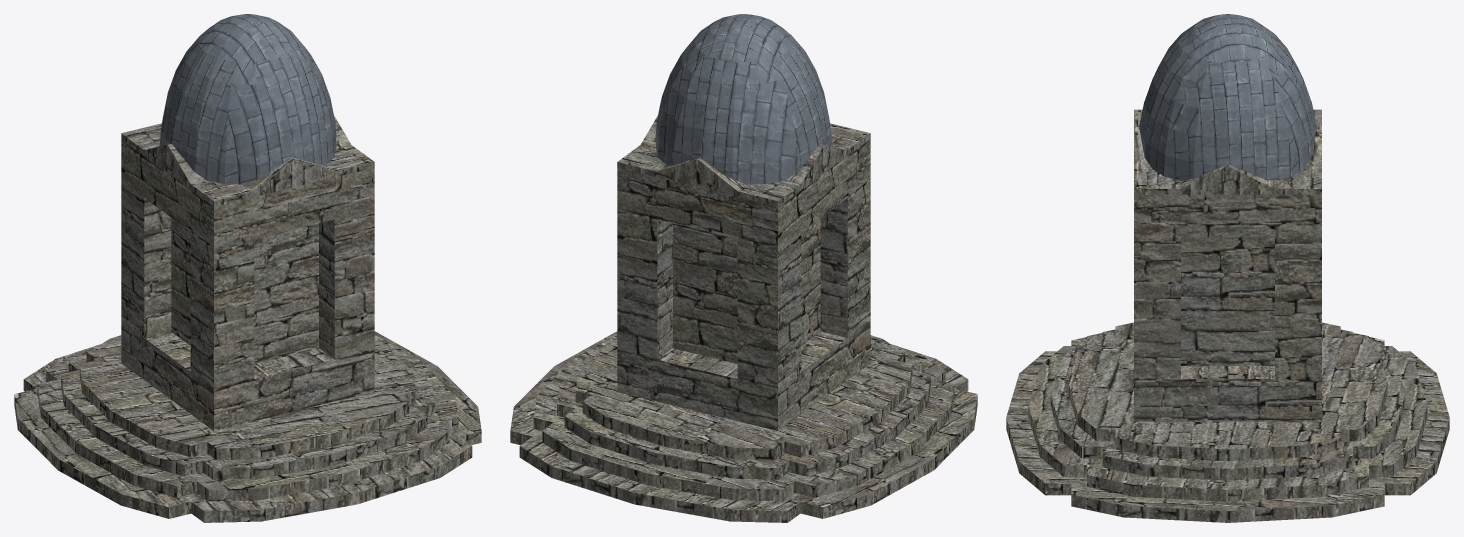
The model's file is fountain.fbx.
3 renders of one model, left to right at view 1: azimuth 30°, elevation 25°; view 2: azimuth 150°, elevation 25°; view 3: azimuth 270°, elevation 25°, orthographic.
Visible parts, largest first — view 1: Cube.005, Roof; view 2: Cube.005, Roof; view 3: Cube.005, Roof.
Boxes of the visible parts, box(x1,y1,x2,y2) form: Cube.005: box(14, 115, 481, 522); Roof: box(159, 14, 336, 184); Cube.005: box(510, 115, 977, 522); Roof: box(655, 14, 832, 184); Cube.005: box(1006, 109, 1449, 522); Roof: box(1139, 14, 1316, 180).
Size of the model in its own units: 340 by 347 by 340.
2 materials, 2 textured.
